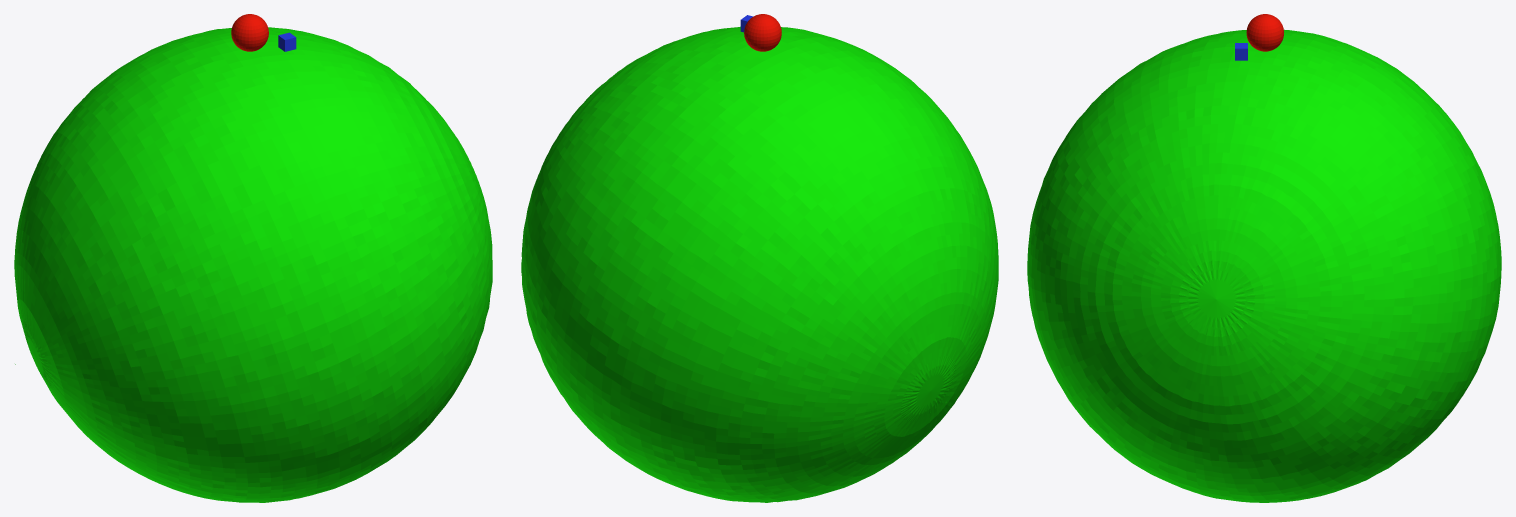
File: weird cube.gltf
The picture shows the model from 3 angles, left to right: view 1: azimuth 30°, elevation 25°; view 2: azimuth 150°, elevation 25°; view 3: azimuth 270°, elevation 25°; orthographic projection.
Visible parts, largest first — view 1: Sphere.001, Sphere; view 2: Sphere.001, Sphere; view 3: Sphere.001, Sphere.
Part boxes in pixels (box(x1,y1,x2,y2)): Sphere.001: box(14, 27, 492, 502); Sphere: box(231, 14, 268, 51); Sphere.001: box(521, 26, 998, 502); Sphere: box(744, 14, 781, 51); Sphere.001: box(1027, 29, 1501, 502); Sphere: box(1246, 14, 1283, 51).
Size of the model in its own units: 519 by 549 by 509.
